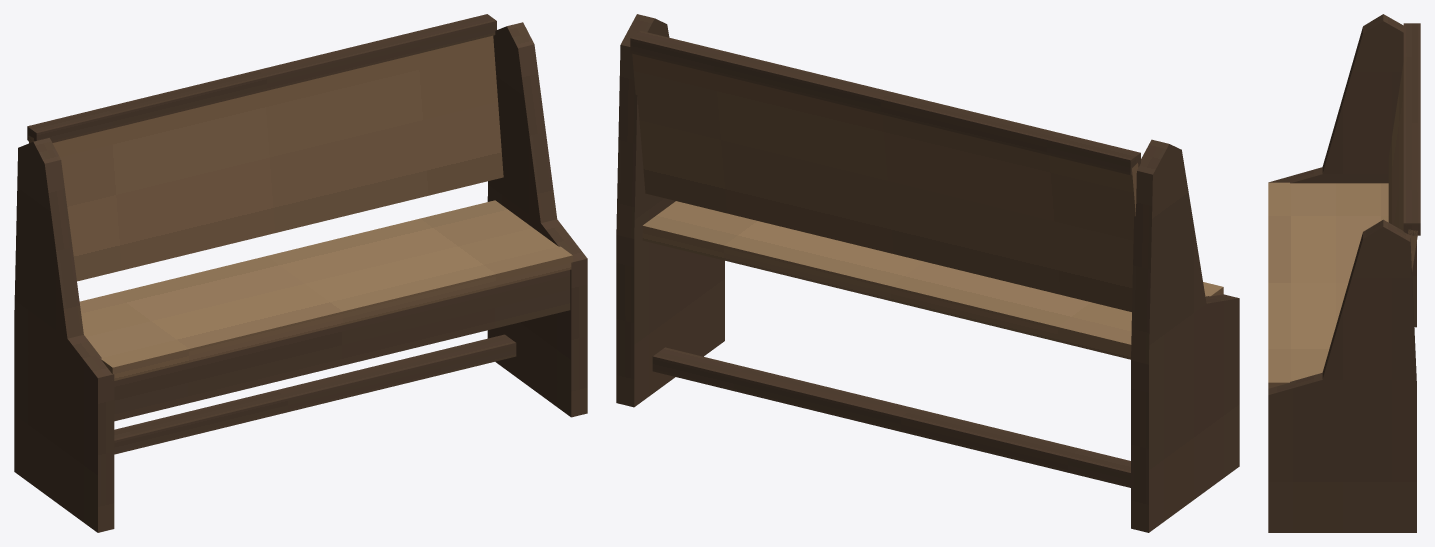
Rendered from pew-section.glb.
3 views of the same model, side by side, from view 1: azimuth 30°, elevation 25°; view 2: azimuth 150°, elevation 25°; view 3: azimuth 270°, elevation 25° (orthographic). The views are drawn at different scales.
Visible parts, largest first — view 1: pew-section.001; view 2: pew-section.001; view 3: pew-section.001.
Boxes of the visible parts, x1,y1,x2,y2 form: pew-section.001: [14, 14, 587, 532]; pew-section.001: [616, 14, 1239, 532]; pew-section.001: [1268, 14, 1420, 532].
Size of the model in its own units: 1.49 by 1 by 0.45.
1 material, 1 textured.
